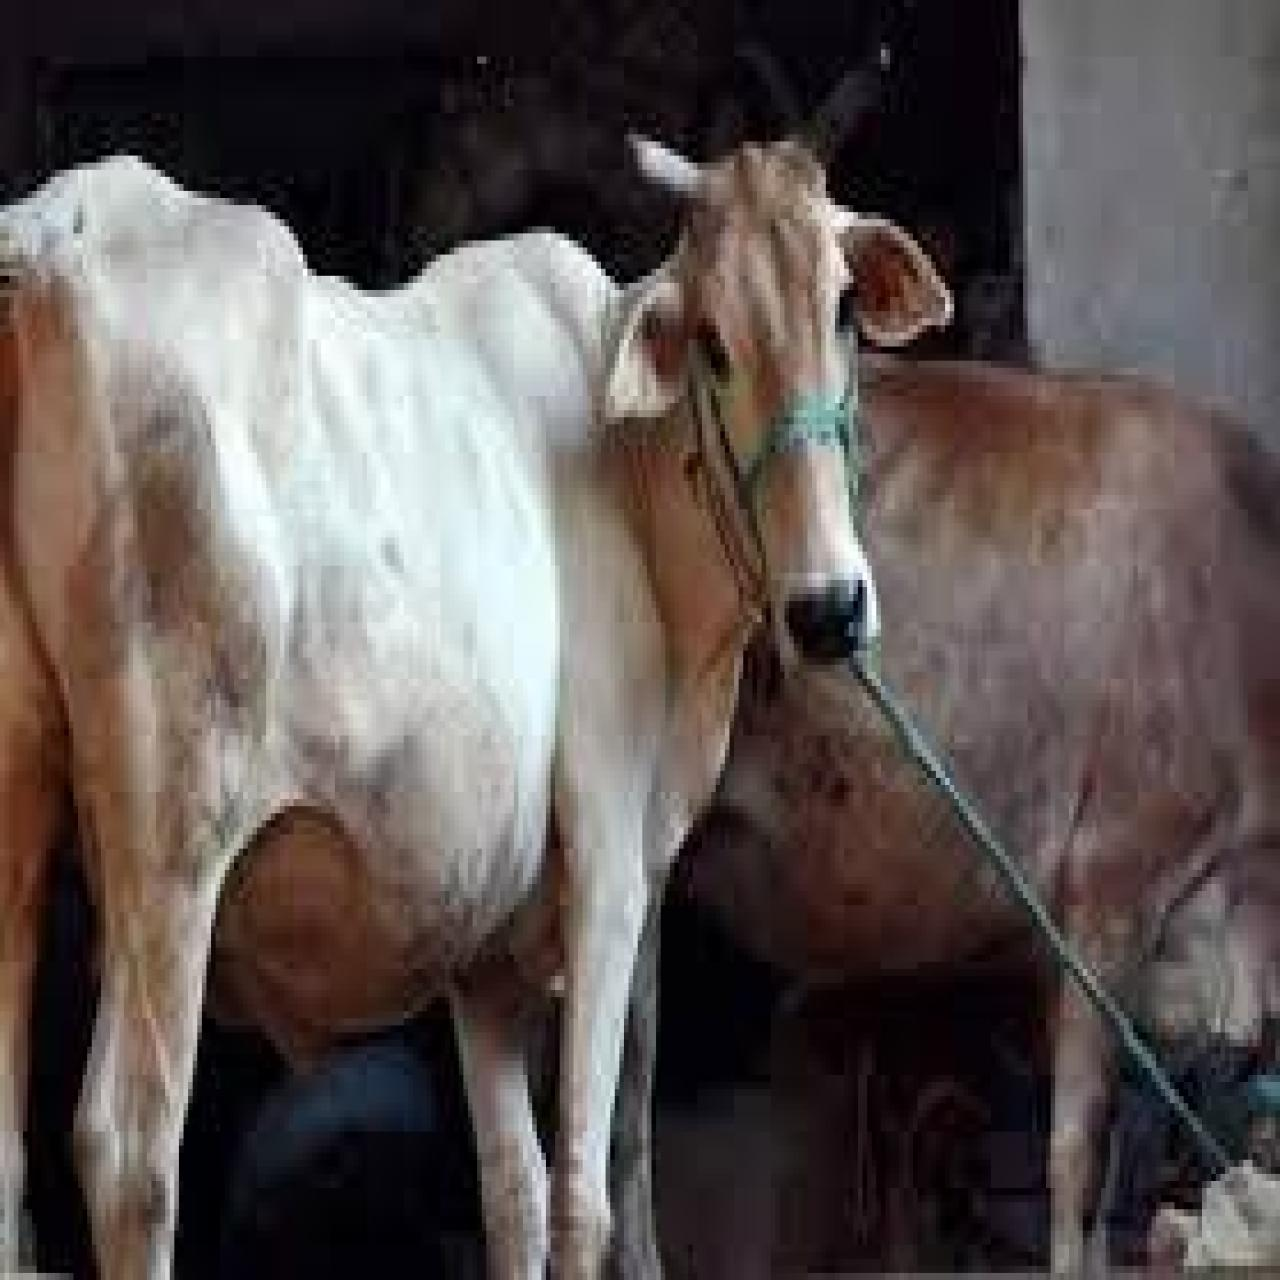cow: (0, 42, 954, 1279), (624, 346, 1280, 1280)
